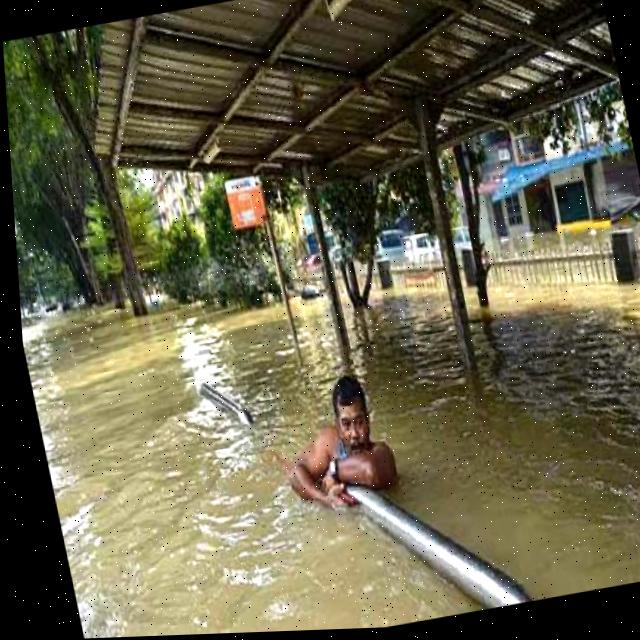civilian: (267, 356, 421, 536)
